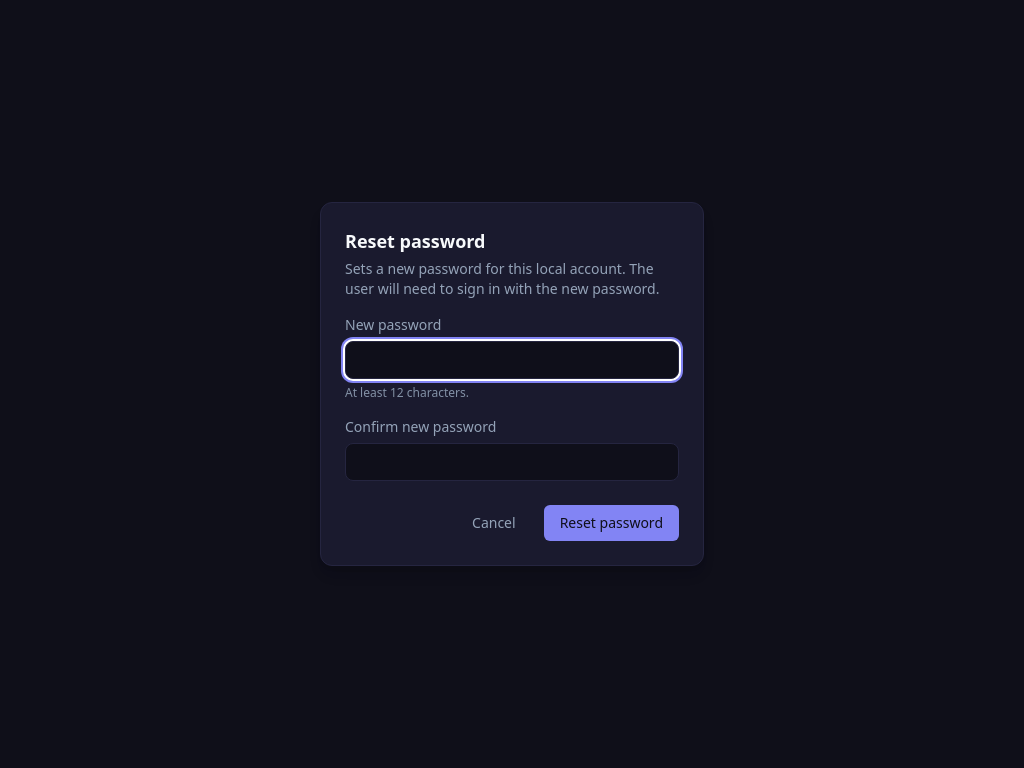
Test case: UserFormDialog — mode="reset-password" › blocks submit when the two password fields do not match
The width and height of the screenshot is (1024, 768).
Type "a-very-long-password" into the password field labelled "New password".
click(512, 360); type("a-very-long-password")  # box [345,341,679,379]
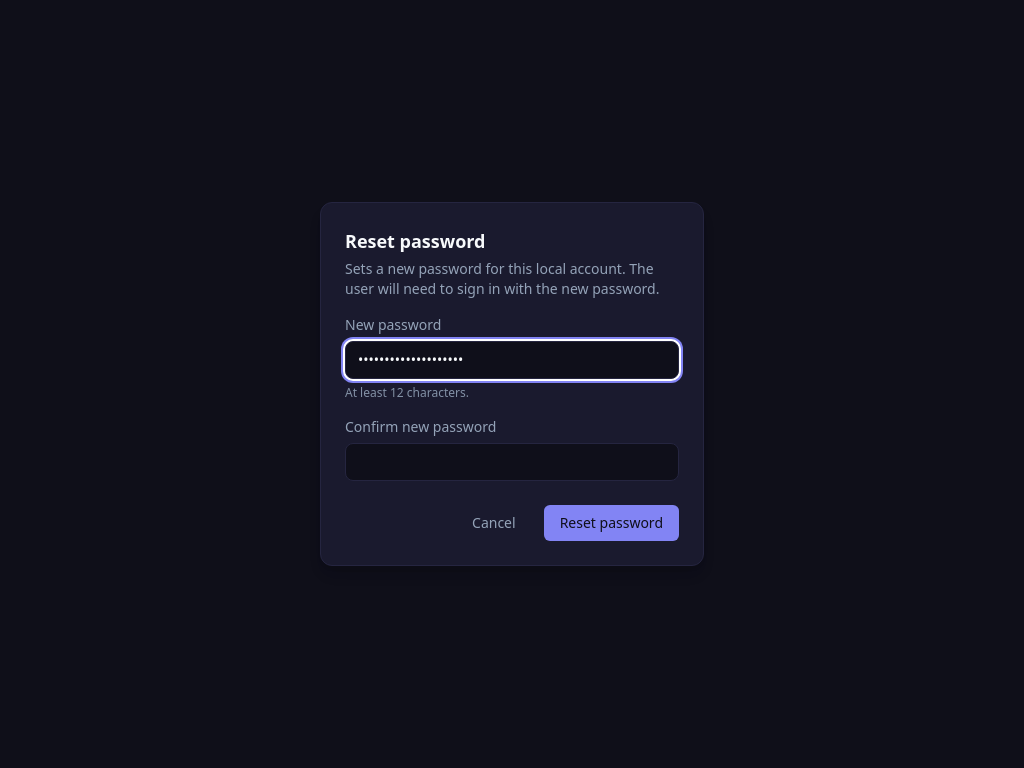
Type "a-different-password" into the password field labelled "Confirm new password".
click(512, 462); type("a-different-password")  # box [345,443,679,481]
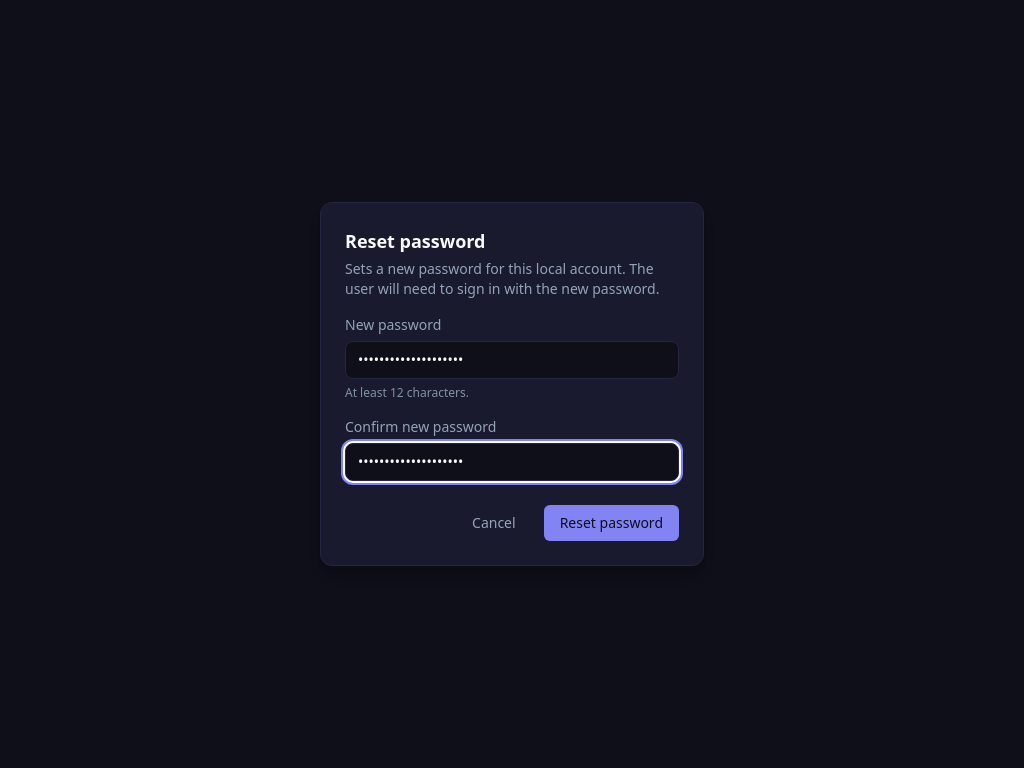
Click the button "Reset password".
click(611, 523)  # box [544,505,679,541]
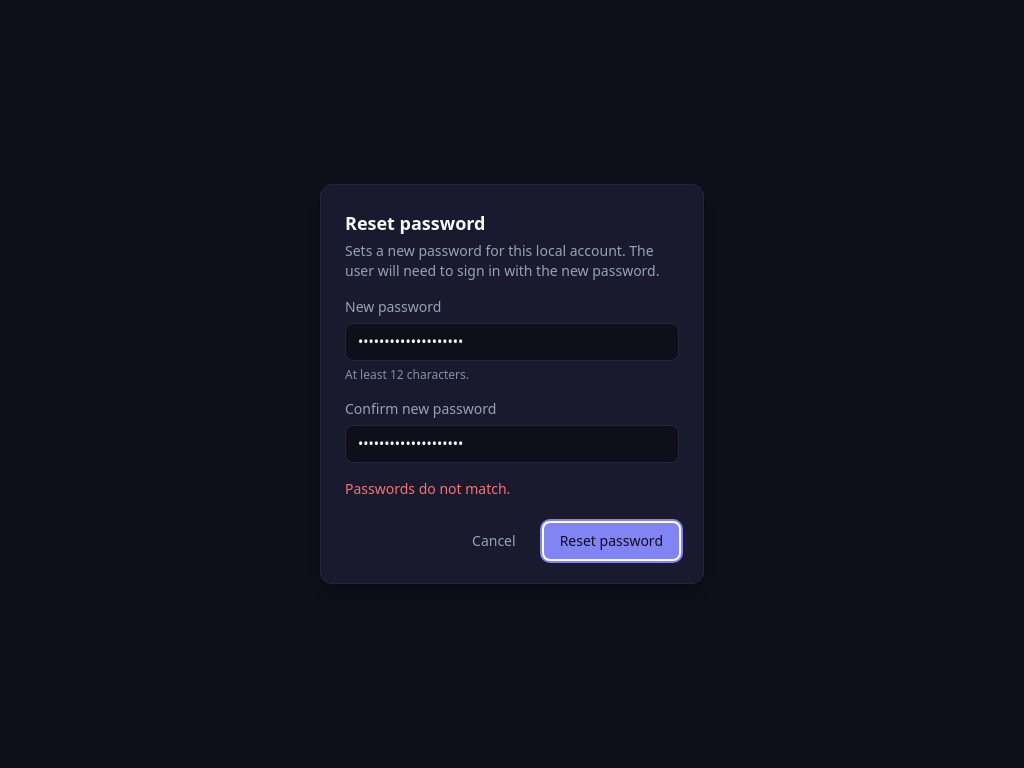
Check: the message reads "Passwords do not match.", box [345,479,510,498]
